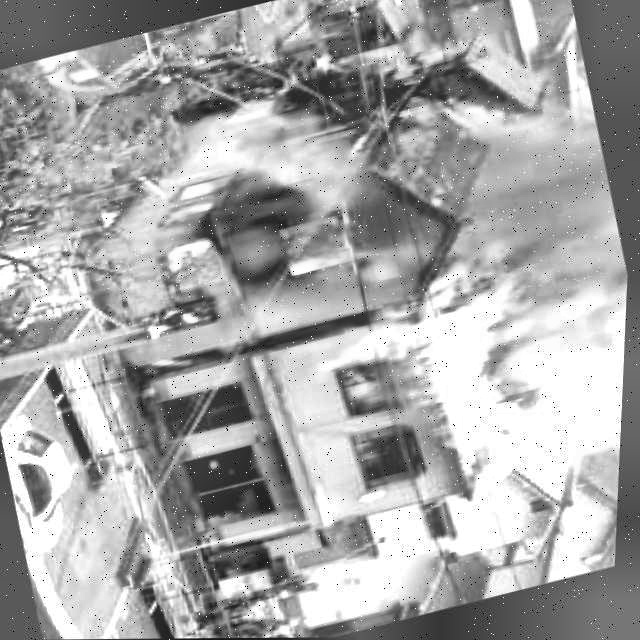Fire: (86, 102, 482, 381), (333, 354, 410, 423)
Smoke: (376, 92, 637, 496)
